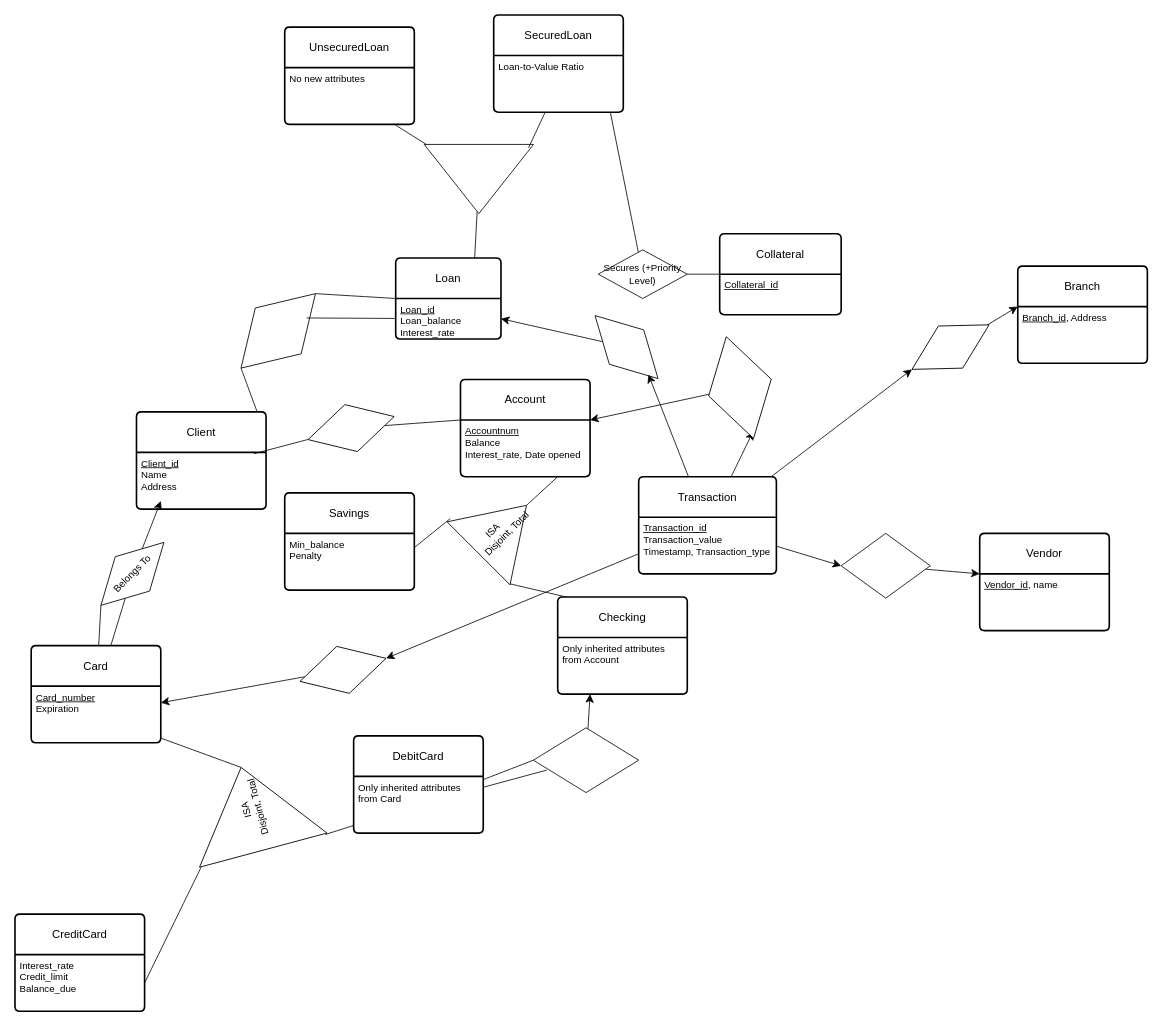
Image size: 1162x1025. Some labels were removed from this diagram. The shapes that lost their labels are listed below. From the top down, each one's centre as x and y in pixels, then its label:
(x=478, y=179): ISA Disjoint,Full
(x=277, y=330): Borrows
(x=626, y=346): Pays
(x=950, y=347): Occurs at
(x=739, y=387): Involves
(x=351, y=427): Owns
(x=885, y=565): At
(x=342, y=669): Made With
(x=586, y=760): Accesses
